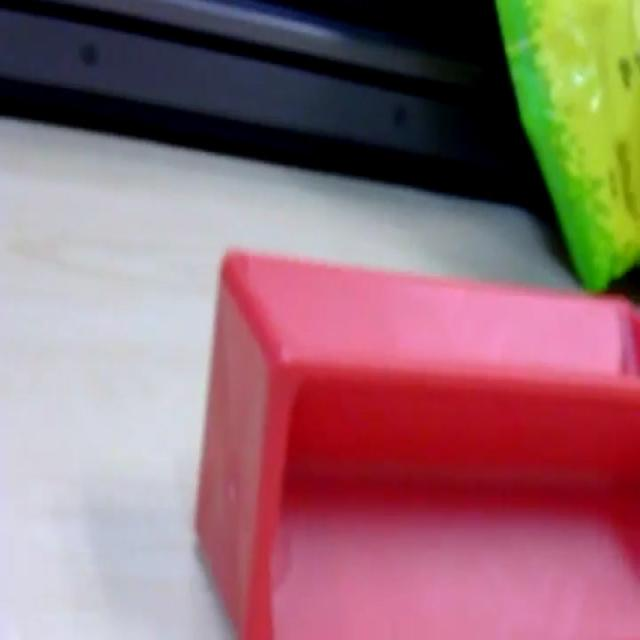red_block: (193, 243, 638, 636)
